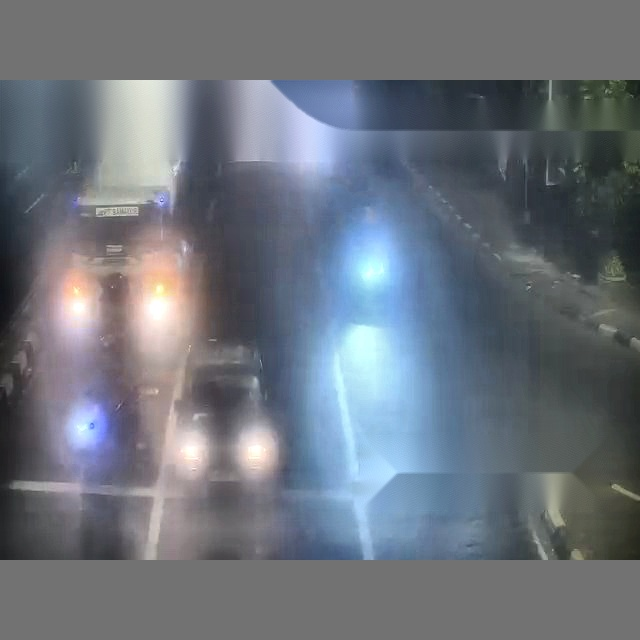Bis: (90, 56, 637, 559)
